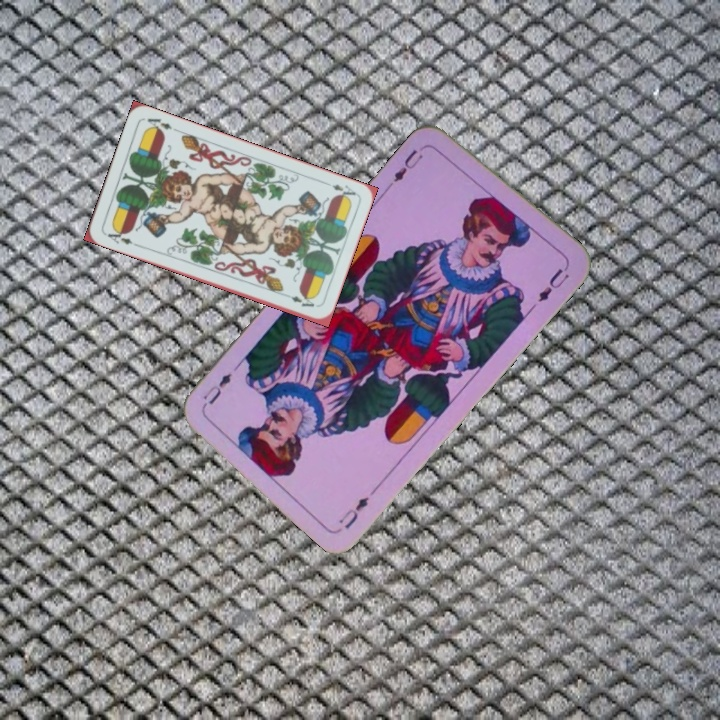EA: (320, 177, 358, 202), (101, 225, 140, 249)
EU: (385, 145, 426, 189), (334, 492, 372, 532)
